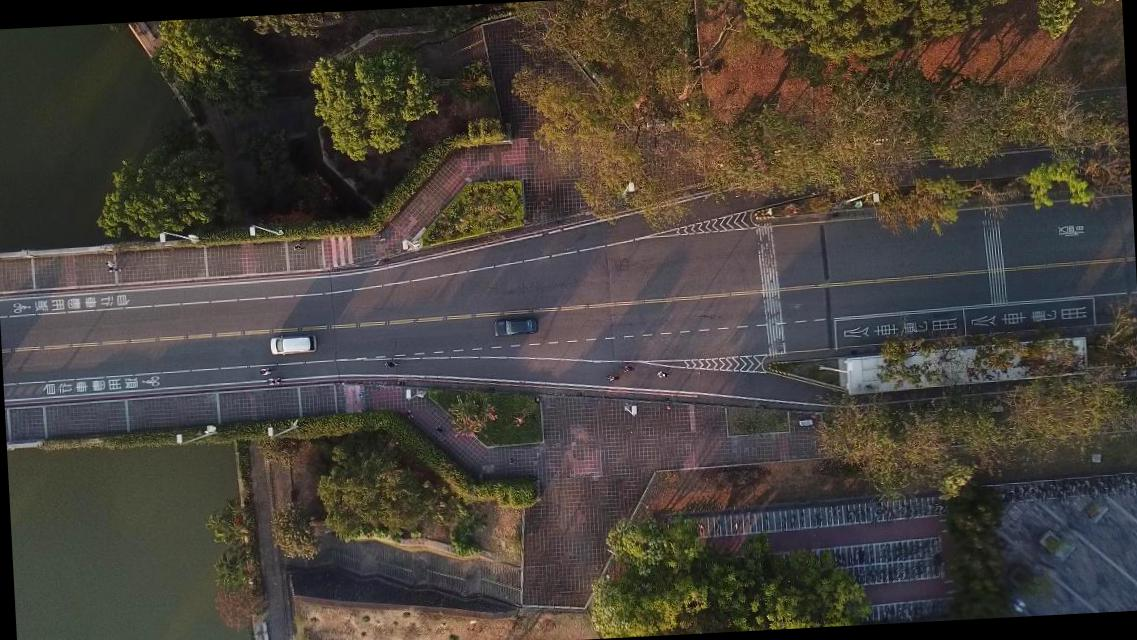vehicle: (270, 334, 317, 356), (492, 317, 539, 338)
